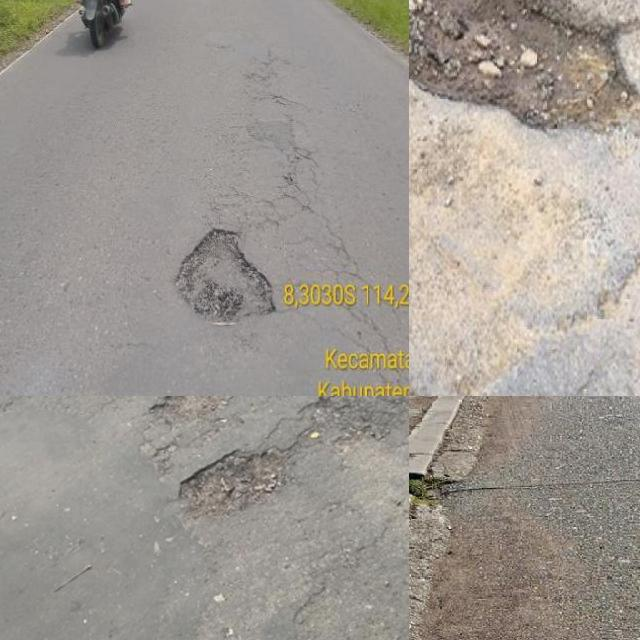Lubang: (409, 0, 631, 130), (178, 229, 272, 318), (177, 454, 297, 512), (320, 396, 409, 446), (164, 396, 240, 425)
Melintang: (445, 464, 640, 507)
